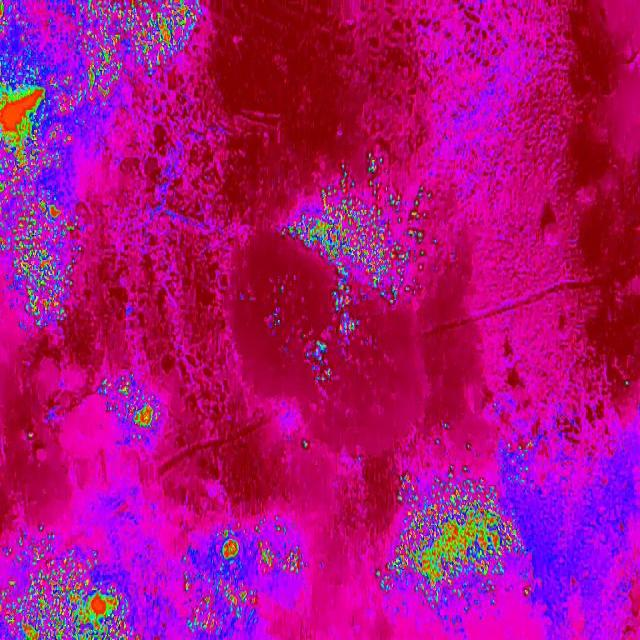fire: (0, 514, 310, 640), (0, 0, 89, 330), (282, 154, 446, 308), (371, 466, 528, 620), (88, 0, 210, 110), (90, 372, 168, 448), (300, 338, 334, 387), (330, 310, 365, 348)
